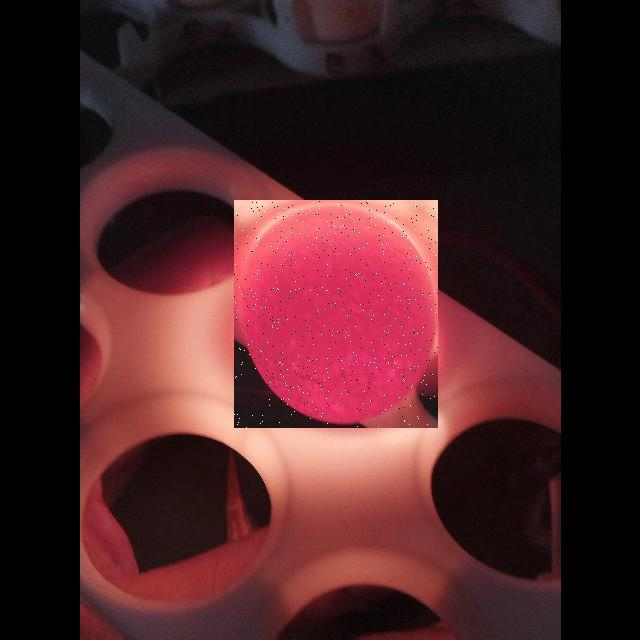Infertile: (234, 200, 438, 428)
